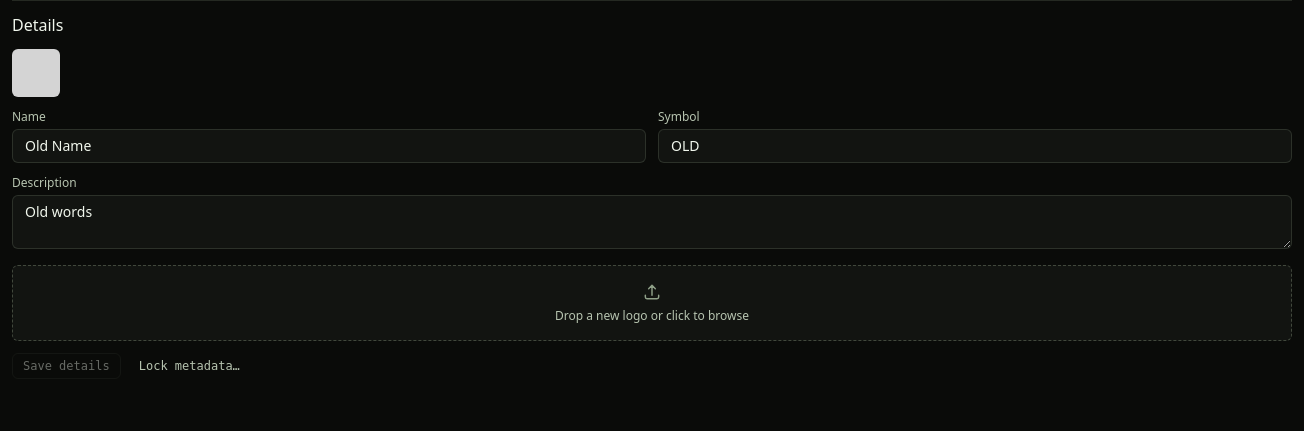
Test: SolanaTokenDetails › starts from the current metadata and saves an edit through the update authority
Expected: the text box labelled "Description" holds "Old words", [12,195,1292,249]
Expected: the button "Save details" is disabled, [12,353,121,379]
Replace the text in the field labelled "Name" with "New Name" at coordinates (329, 146), box [12,129,646,163]
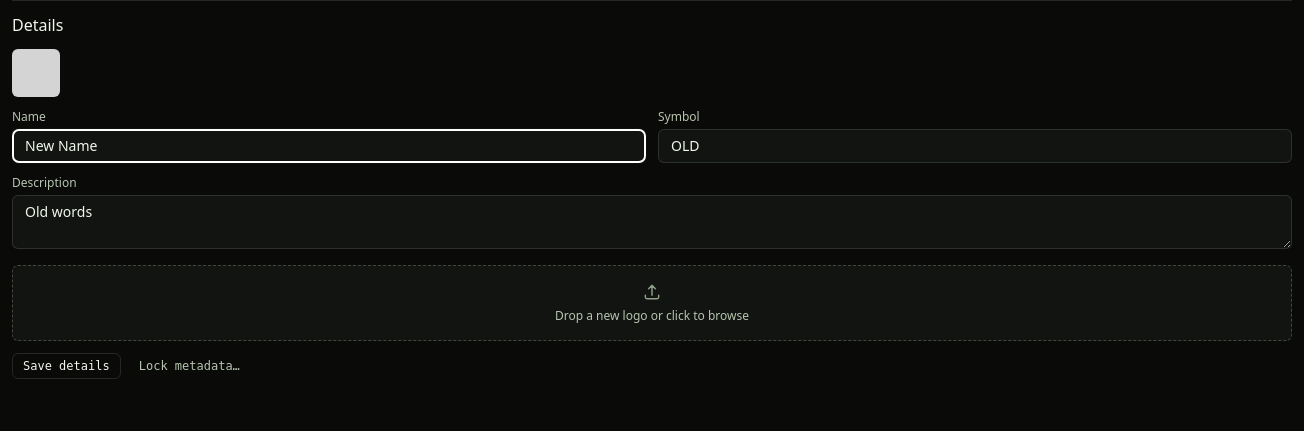
Click the button "Save details" at coordinates (66, 366), box [12,353,121,379]
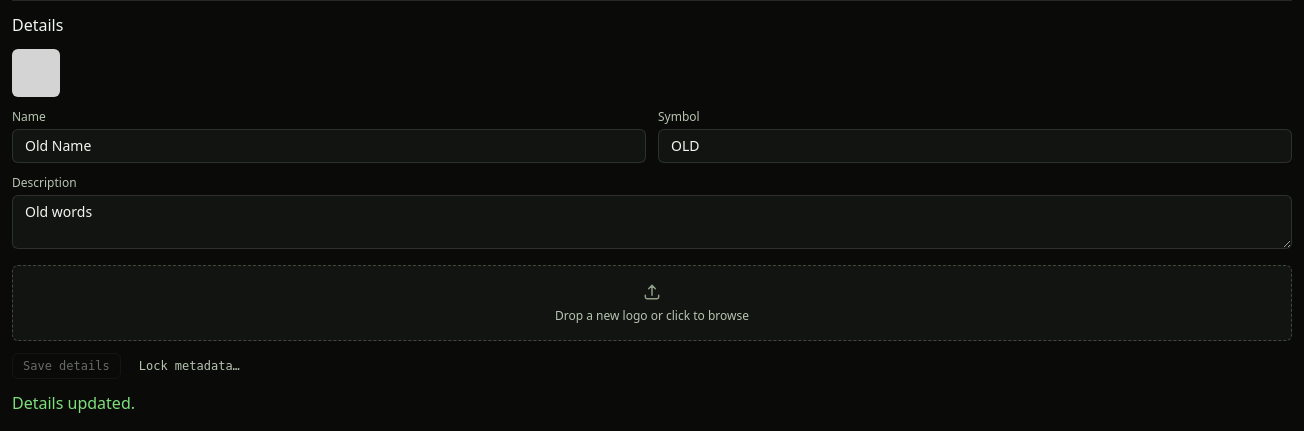
Result: the text "Details updated." is shown at [12,392,135,414]
